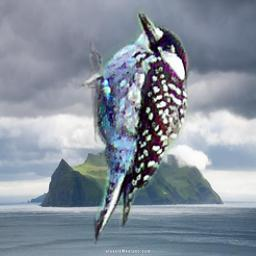Woodpecker: (58, 1, 205, 256)
